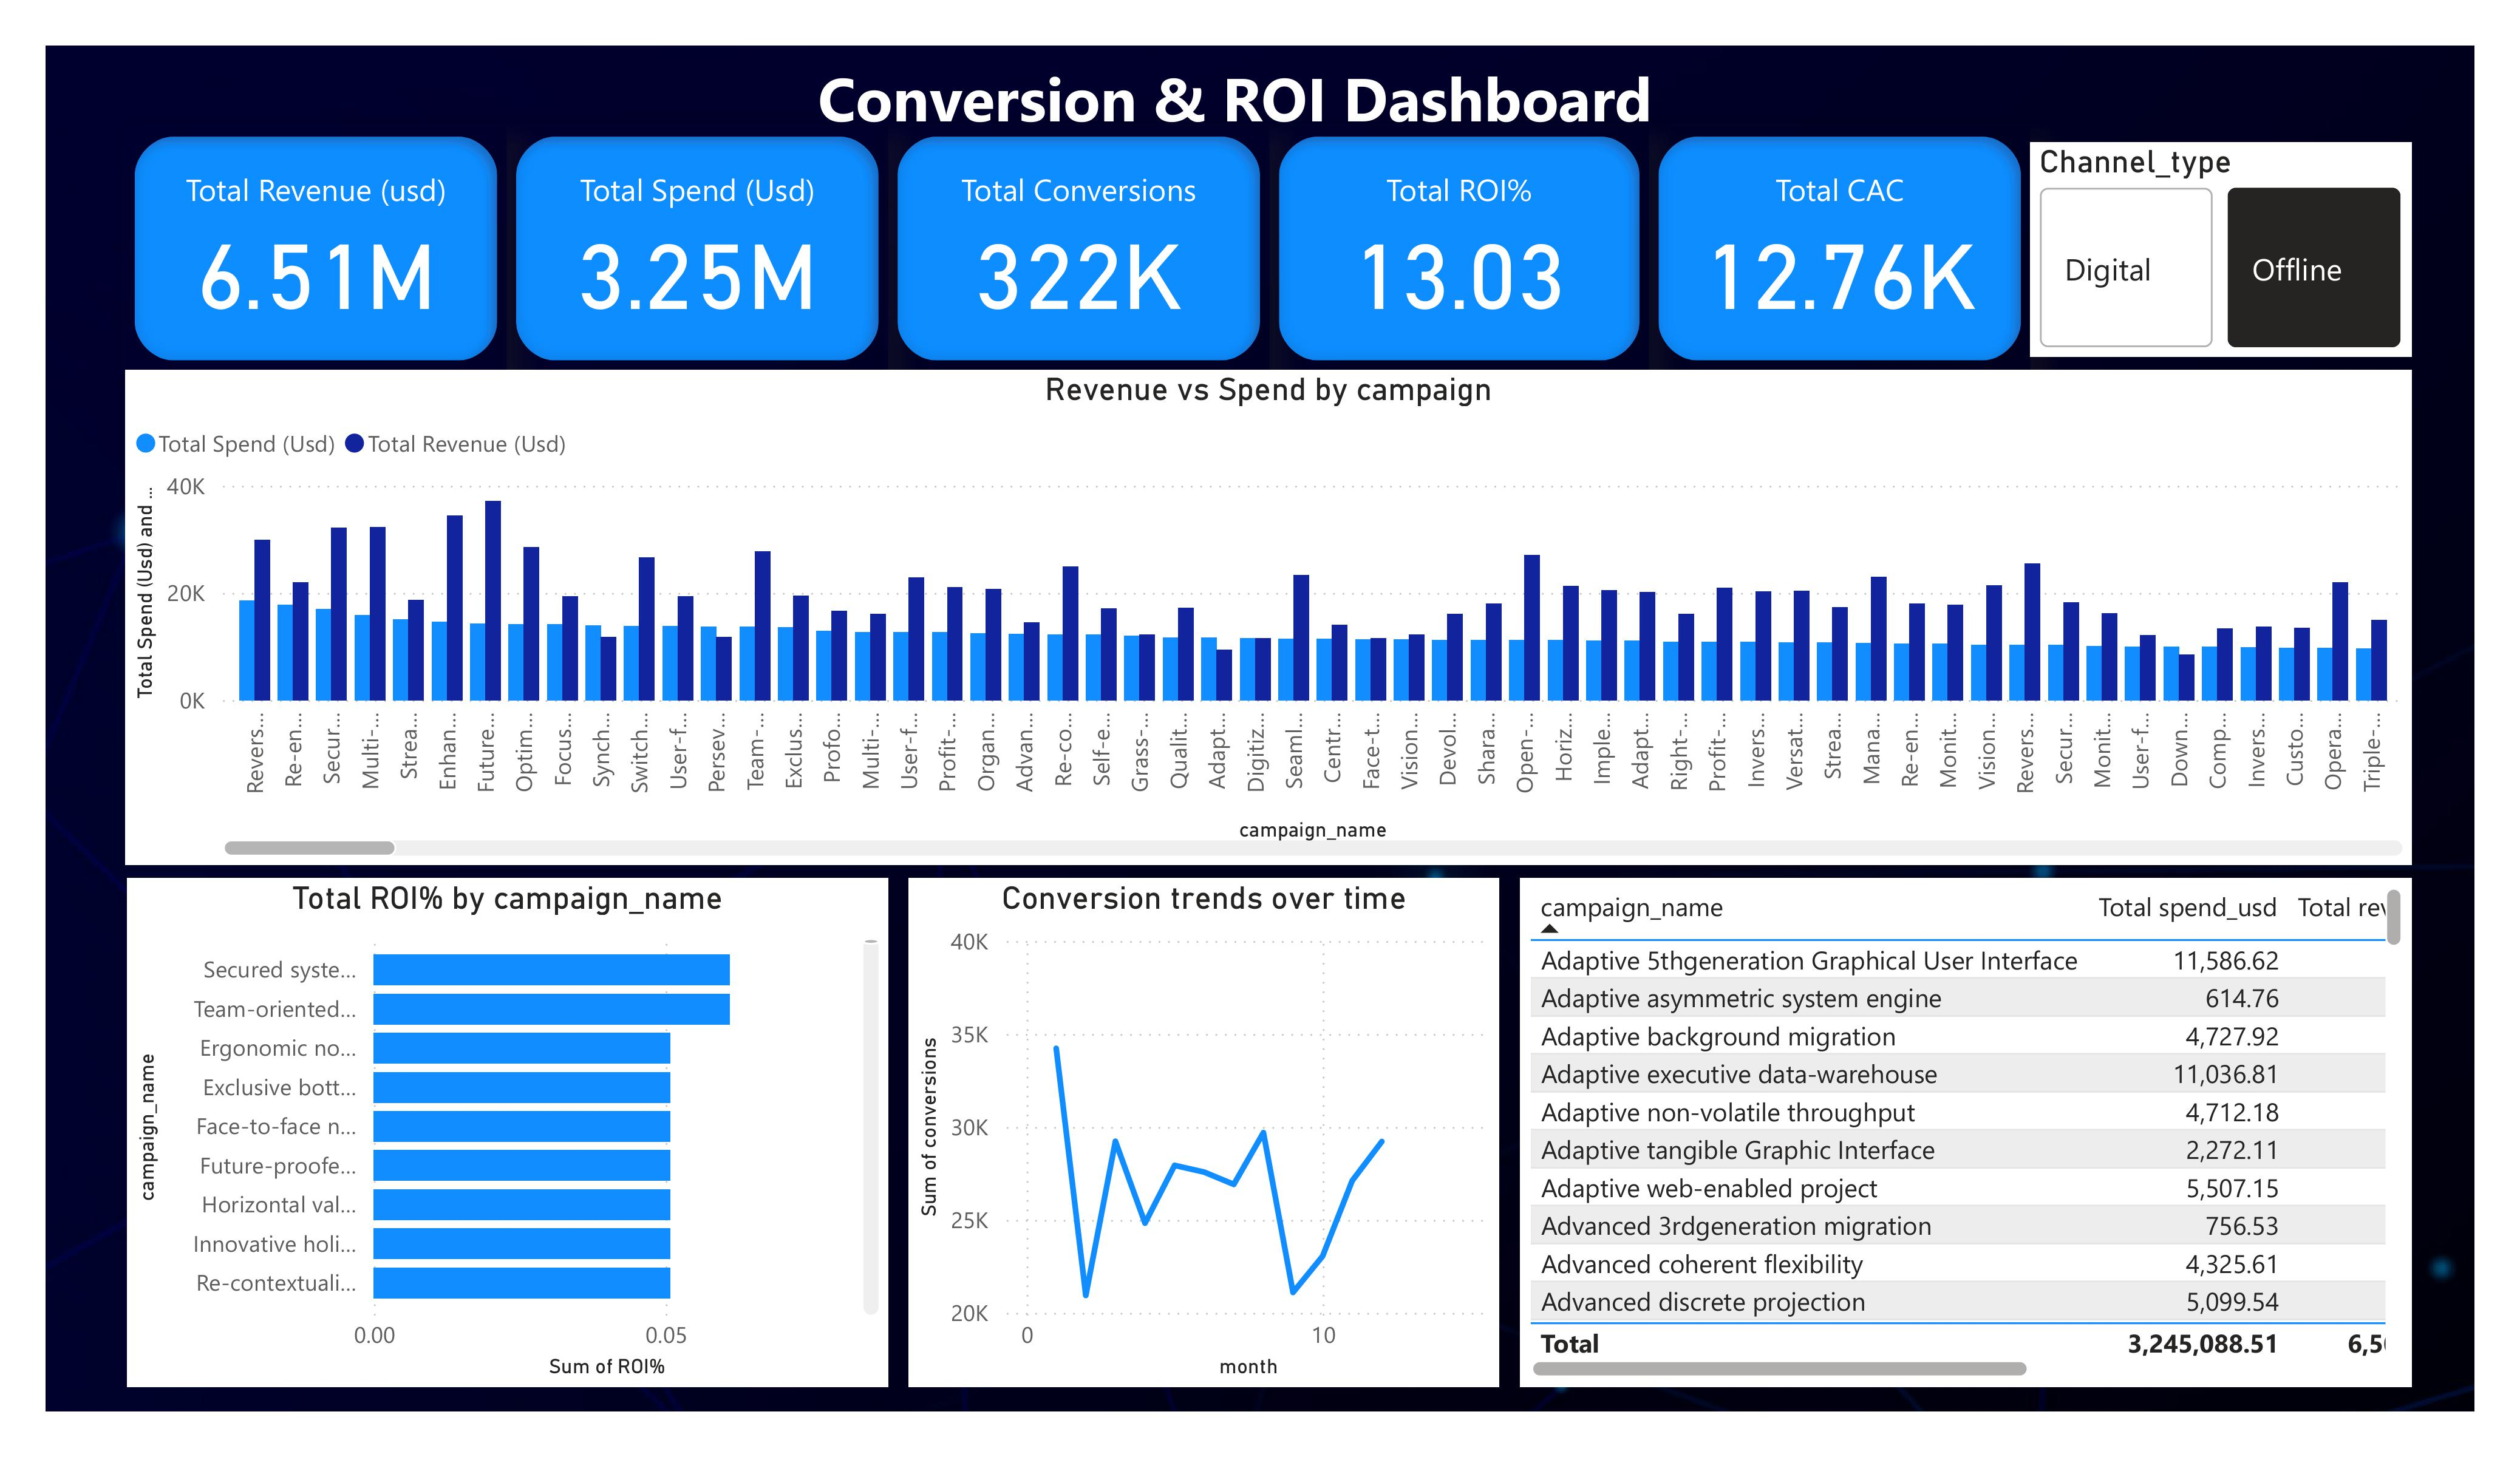

The page's visual inventory and layout, read from the dashboard file:
{"tool":"powerbi","page":{"name":"Conversion & ROI Dashboard","canvas":[1280,720],"ordinal":3},"visuals":[{"type":"textbox","box":[401.8,0,476.4,55.5],"z":0},{"type":"cardVisual","fields":{"Data":["Sum(Fact_CampaignPerformance.revenue_usd)"]},"box":[41.7,42.7,200.9,128.2],"z":1000},{"type":"cardVisual","fields":{"Data":["Sum(Fact_CampaignPerformance.spend_usd)"]},"box":[242.7,42.7,200.9,128.2],"z":2000},{"type":"cardVisual","fields":{"Data":["Sum(Fact_CampaignPerformance.conversions)"]},"box":[443.6,42.7,200.9,128.2],"z":3000},{"type":"cardVisual","fields":{"Data":["Sum(Fact_CampaignPerformance.ROI%)"]},"box":[644.5,42.7,200.9,128.2],"z":4000},{"type":"cardVisual","fields":{"Data":["Sum(Fact_CampaignPerformance.CAC)"]},"box":[845.4,42.7,200.9,128.2],"z":5000},{"type":"advancedSlicerVisual","fields":{"Values":["Dim_Channels.channel_type"]},"box":[1046.4,50.9,200.9,112.7],"z":6000},{"type":"clusteredColumnChart","title":"Revenue vs Spend by campaign","fields":{"Category":["Dim_Campaigns.campaign_name"],"Y":["Sum(Fact_CampaignPerformance.spend_usd)","Sum(Fact_CampaignPerformance.revenue_usd)"]},"box":[41.8,170.9,1205.5,260.9],"z":7000},{"type":"barChart","title":"Total  ROI% by campaign_name","fields":{"Category":["Dim_Campaigns.campaign_name"],"Y":["Sum(Fact_CampaignPerformance.ROI%)"]},"box":[42.7,439.1,400.9,268.2],"z":8000},{"type":"lineChart","title":"Conversion trends over time","fields":{"Y":["Sum(Fact_CampaignPerformance.conversions)"],"Category":["Dim_Date.month"]},"box":[455.4,439.1,310.9,268.2],"z":9000},{"type":"tableEx","fields":{"Values":["Dim_Campaigns.campaign_name","Sum(Fact_CampaignPerformance.spend_usd)","Sum(Fact_CampaignPerformance.revenue_usd)","Sum(Fact_CampaignPerformance.conversions)","Sum(Fact_CampaignPerformance.ROI%)","Sum(Fact_CampaignPerformance.CAC)"]},"box":[777.3,439.1,470,268.2],"z":10000}]}

Visuals, with their boxes in screenshot pixels (x1, y1, x2, y2):
textbox: [826, 26, 1751, 134]
cardVisual - Sum(Fact_CampaignPerformance.revenue_usd): [127, 109, 517, 358]
cardVisual - Sum(Fact_CampaignPerformance.spend_usd): [517, 109, 907, 358]
cardVisual - Sum(Fact_CampaignPerformance.conversions): [907, 109, 1297, 358]
cardVisual - Sum(Fact_CampaignPerformance.ROI%): [1297, 109, 1687, 358]
cardVisual - Sum(Fact_CampaignPerformance.CAC): [1687, 109, 2077, 358]
advancedSlicerVisual - Dim_Channels.channel_type: [2077, 125, 2468, 344]
"Revenue vs Spend by campaign" clusteredColumnChart: [127, 358, 2468, 864]
"Total  ROI% by campaign_name" barChart: [129, 878, 907, 1399]
"Conversion trends over time" lineChart: [930, 878, 1534, 1399]
tableEx - Dim_Campaigns.campaign_name x Sum(Fact_CampaignPerformance.spend_usd): [1555, 878, 2468, 1399]
